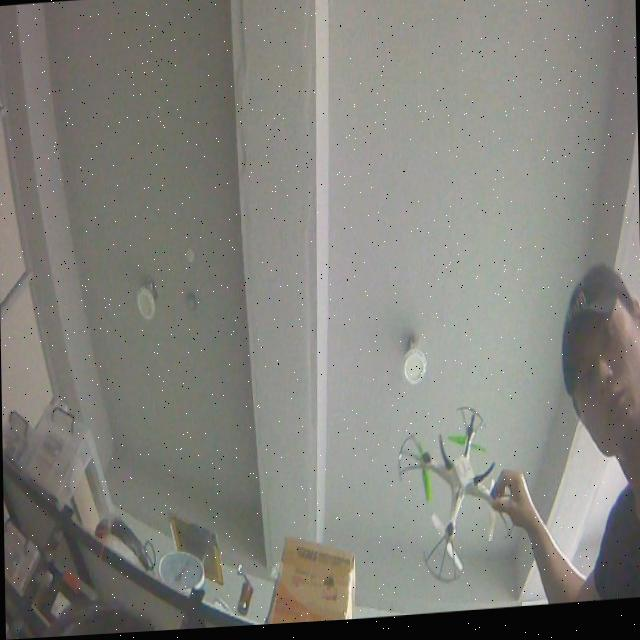drone: (394, 405, 521, 594)
